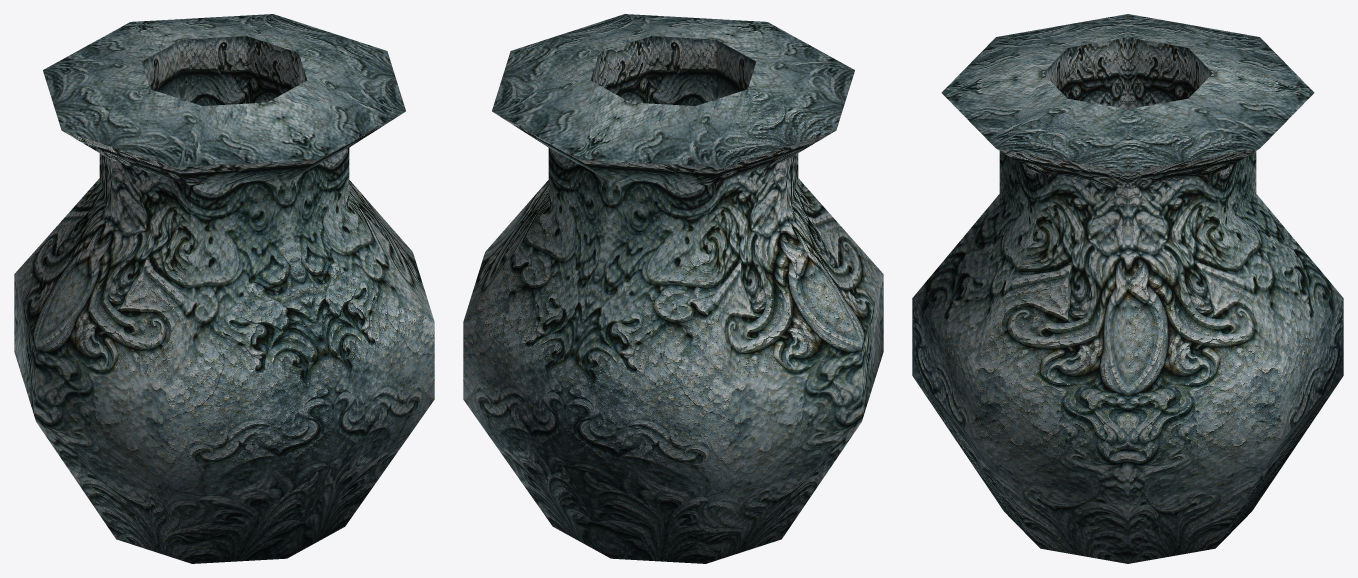
The model's file is mm9_deco_urngargoyle.glb.
The picture shows the model from 3 angles, left to right: view 1: azimuth 30°, elevation 25°; view 2: azimuth 150°, elevation 25°; view 3: azimuth 270°, elevation 25°; orthographic projection.
Parts seen in each view (by area): view 1: Urngargoyle; view 2: Urngargoyle; view 3: Urngargoyle.
Boxes of the visible parts, box(x1,y1,x2,y2) form: Urngargoyle: box(14, 14, 434, 563); Urngargoyle: box(463, 14, 883, 563); Urngargoyle: box(912, 14, 1343, 563).
Size of the model in its own units: 1.16 by 1.3 by 1.16.
1 material, 1 textured.
